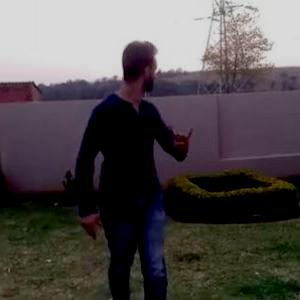takeoff-hand: (165, 118, 200, 159)
